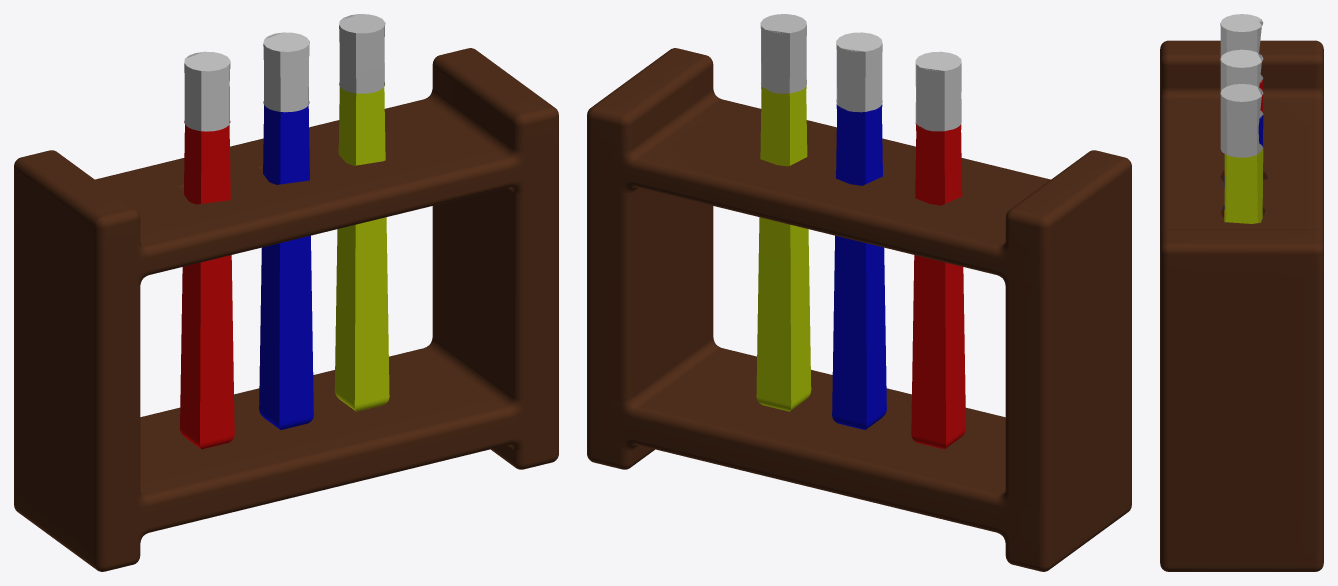
The model's file is TestTubesRacks.fbx.
The picture shows the model from 3 angles, left to right: view 1: azimuth 30°, elevation 25°; view 2: azimuth 150°, elevation 25°; view 3: azimuth 270°, elevation 25°; orthographic projection. The views are drawn at different scales.
Visible parts, largest first — view 1: node_id4, node_id9 (×2), node_id6 (×2), node_id12 (×2); view 2: node_id4, node_id6 (×2), node_id9 (×2), node_id12 (×2); view 3: node_id4, node_id12 (×2), node_id9, node_id6.
Part boxes in pixels (box(x1,y1,x2,y2)): node_id4: box(14, 48, 558, 571); node_id9 (×2): box(180, 51, 234, 449); node_id6 (×2): box(259, 32, 313, 429); node_id12 (×2): box(334, 14, 389, 411); node_id4: box(587, 48, 1131, 571); node_id6 (×2): box(832, 32, 886, 429); node_id9 (×2): box(911, 51, 965, 449); node_id12 (×2): box(756, 14, 811, 411); node_id4: box(1160, 40, 1323, 571); node_id12 (×2): box(1220, 84, 1263, 223); node_id9: box(1220, 14, 1263, 82); node_id6: box(1220, 49, 1263, 118).
Size of the model in its own units: 0.512 by 0.4703 by 0.1695.
